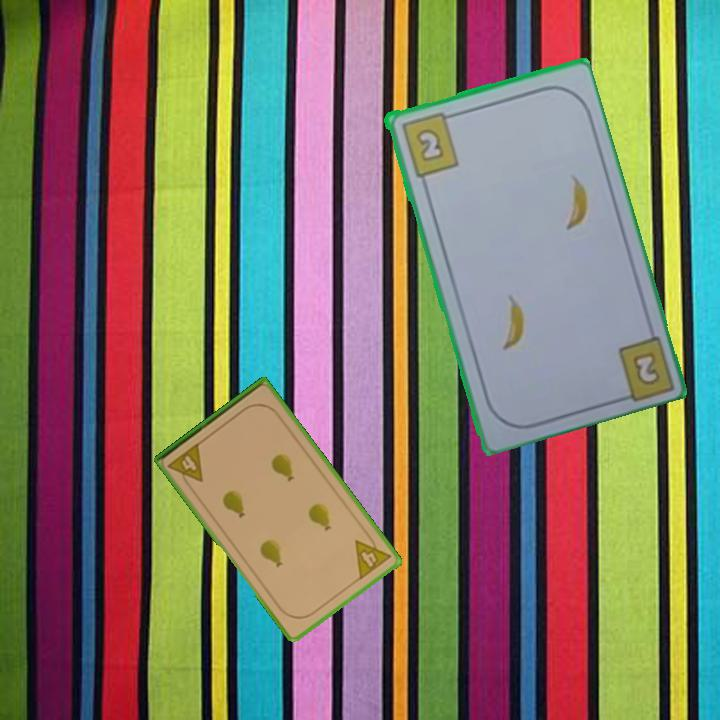2b: (397, 108, 462, 179), (628, 348, 666, 388)
4p: (351, 529, 394, 583), (164, 439, 206, 492)
